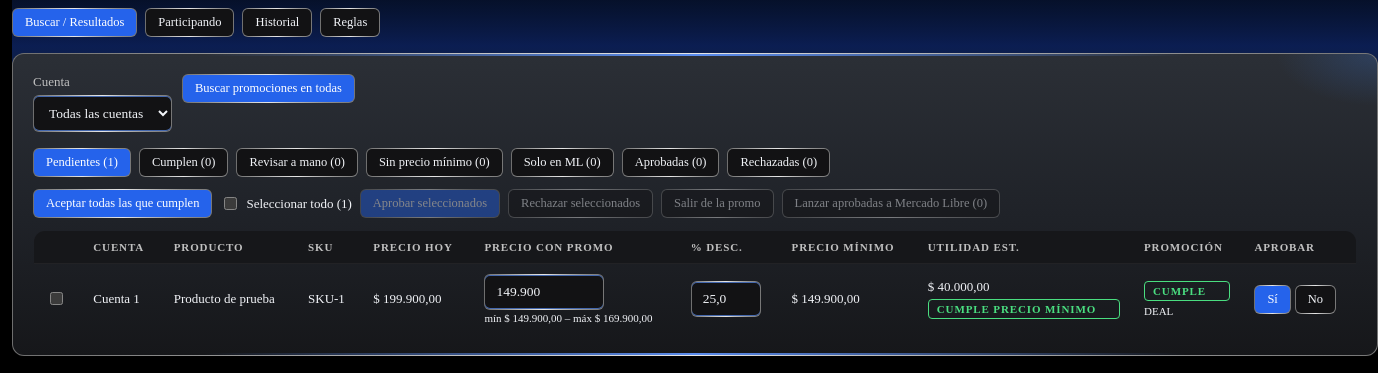
Scenario: PaginaPromociones — punto 1 (rama fix-promociones-edicion): escribir libre, confirmar solo en blur/Enter › confirma un precio FUERA de rango: se deja tal cual (nunca se fuerza de vuelta), avisa en rojo y bloquea Sí
Expected: the text "Producto de prueba" is shown, [162,264,296,334]
Replace the text in the 1st field with "16000": (544, 292) [484,274,604,310]
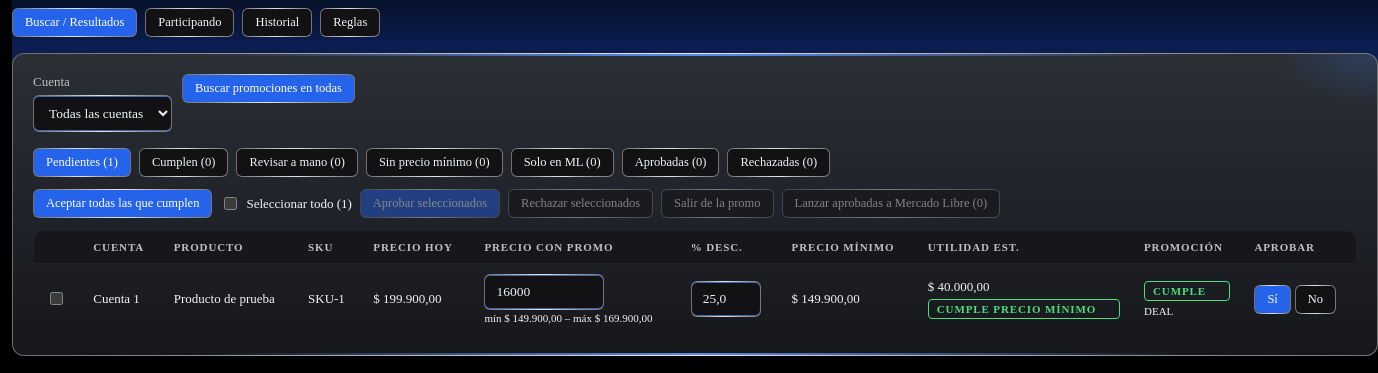
Leave the 1st field, box [484,274,604,310]
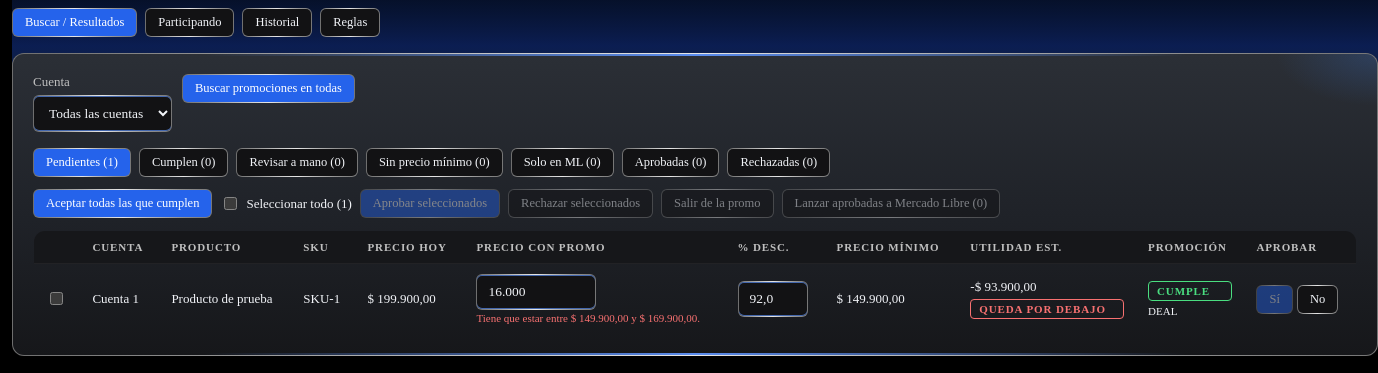
Result: the 1st field holds "16.000" at [476,274,596,310]
Result: the text "Tiene que estar entre $ 149.900,00 y $ 169.900,00." is shown at [476,312,714,324]
